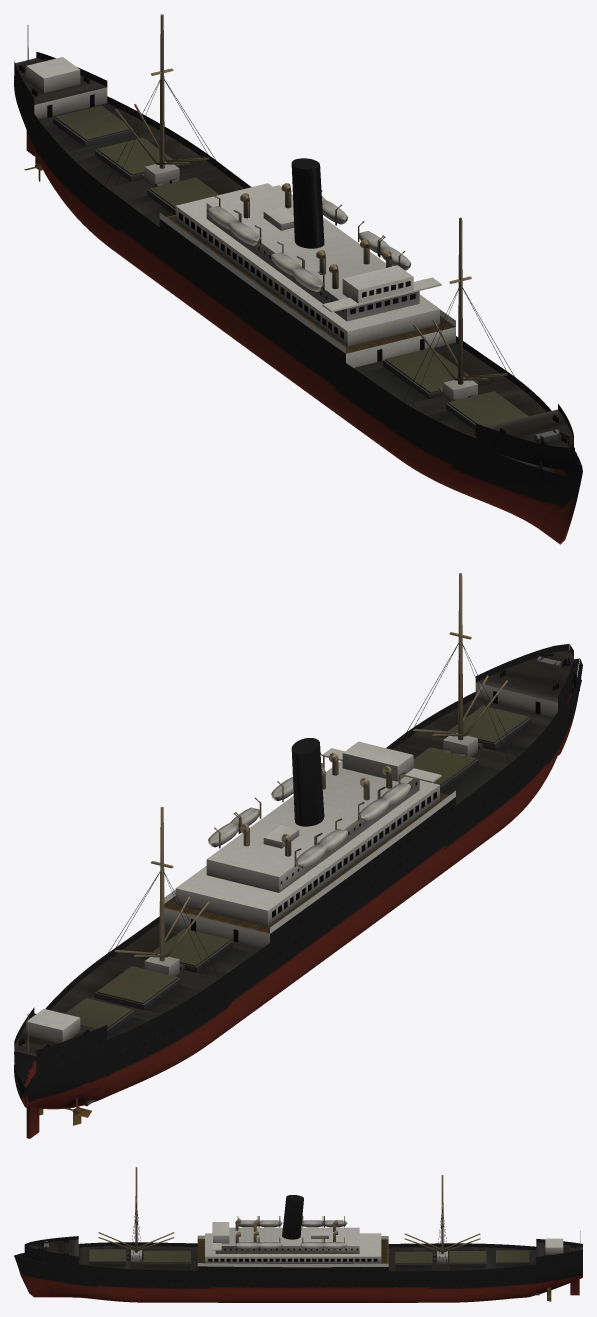
Rendered from model_built.glb.
The picture shows the model from 3 angles, top to bottom: view 1: azimuth 30°, elevation 25°; view 2: azimuth 150°, elevation 25°; view 3: azimuth 270°, elevation 25°; orthographic projection. The views are drawn at different scales.
Parts seen in each view (by area): view 1: main; view 2: main; view 3: main.
Boxes of the visible parts, left/top/right/bottom form: main: left=14, top=14, right=582, bottom=544; main: left=14, top=573, right=582, bottom=1138; main: left=14, top=1167, right=582, bottom=1302.
Bounding box in the file's own units: 18.22 × 39.85 × 158.
2 materials, 2 textured.
